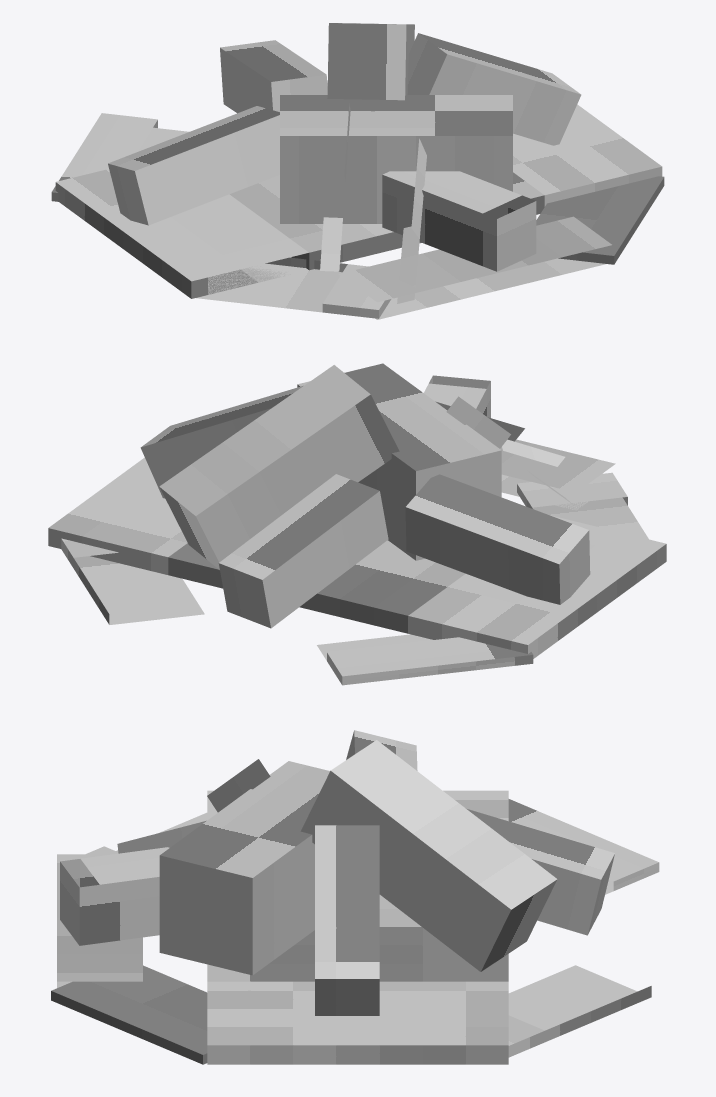
The model's file is campfire.obj.
The picture shows the model from 3 angles, top to bottom: view 1: azimuth 30°, elevation 25°; view 2: azimuth 150°, elevation 25°; view 3: azimuth 270°, elevation 25°; orthographic projection. The views are drawn at different scales.
Parts seen in each view (by area): view 1: cube; view 2: cube; view 3: cube.
Part boxes in pixels (left/top/right/bottom): cube: left=51, top=23, right=664, bottom=319; cube: left=48, top=363, right=666, bottom=685; cube: left=51, top=730, right=659, bottom=1064.
Bounding box in the file's own units: 2 × 0.5964 × 2.
